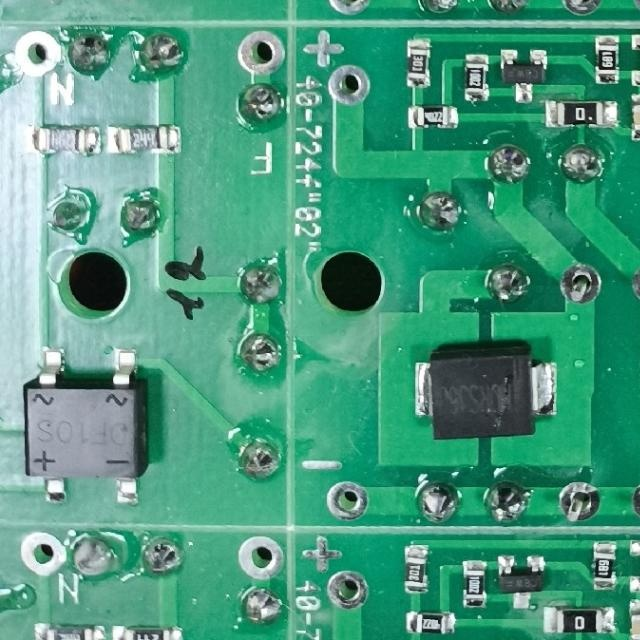chip-resistor: (24, 121, 102, 158), (104, 121, 182, 155), (540, 603, 616, 636), (542, 98, 620, 130), (593, 32, 621, 87), (31, 620, 106, 640), (462, 51, 490, 104), (406, 103, 460, 130), (591, 538, 618, 591), (460, 558, 487, 610), (405, 36, 431, 89), (405, 609, 458, 635), (403, 543, 429, 595), (110, 622, 185, 640)
diode: (412, 341, 559, 441)
ic: (21, 343, 150, 509)
transistor: (497, 553, 547, 610), (500, 47, 549, 104)
